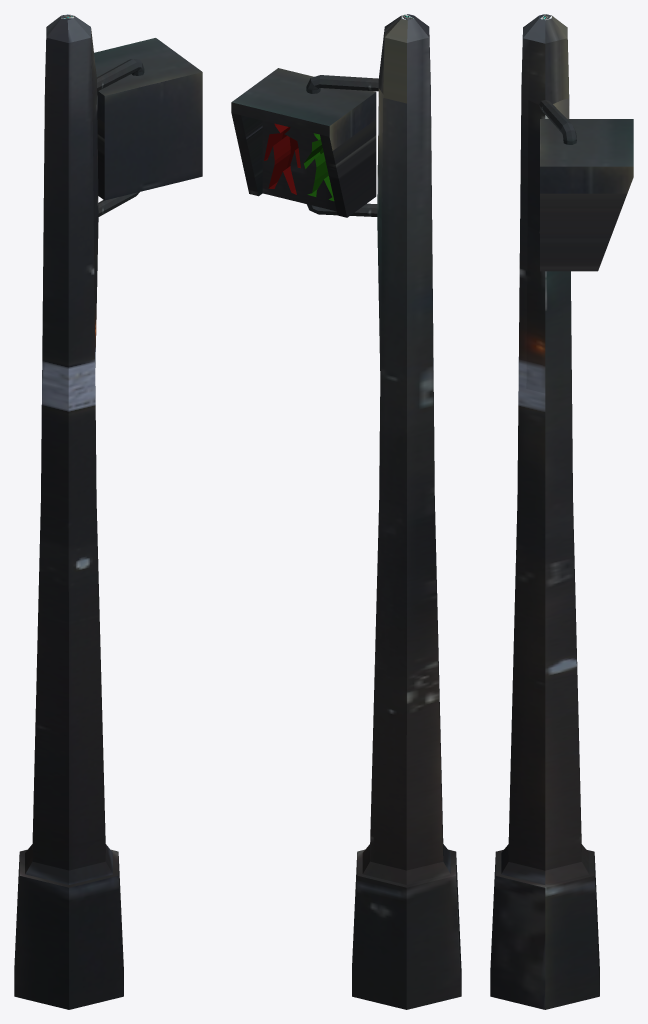
The model's file is Feu.fbx.
3 renders of one model, left to right at view 1: azimuth 30°, elevation 25°; view 2: azimuth 150°, elevation 25°; view 3: azimuth 270°, elevation 25°, orthographic.
Parts seen in each view (by area): view 1: Poteau.001; view 2: Poteau.001; view 3: Poteau.001.
Part boxes in pixels (bbox=[...]): Poteau.001: bbox=[14, 14, 202, 1009]; Poteau.001: bbox=[231, 14, 461, 1009]; Poteau.001: bbox=[490, 14, 633, 1009].
Size of the model in its own units: 0.5433 by 0.3628 by 2.7.
Materials: 3 (1 with a texture image).
